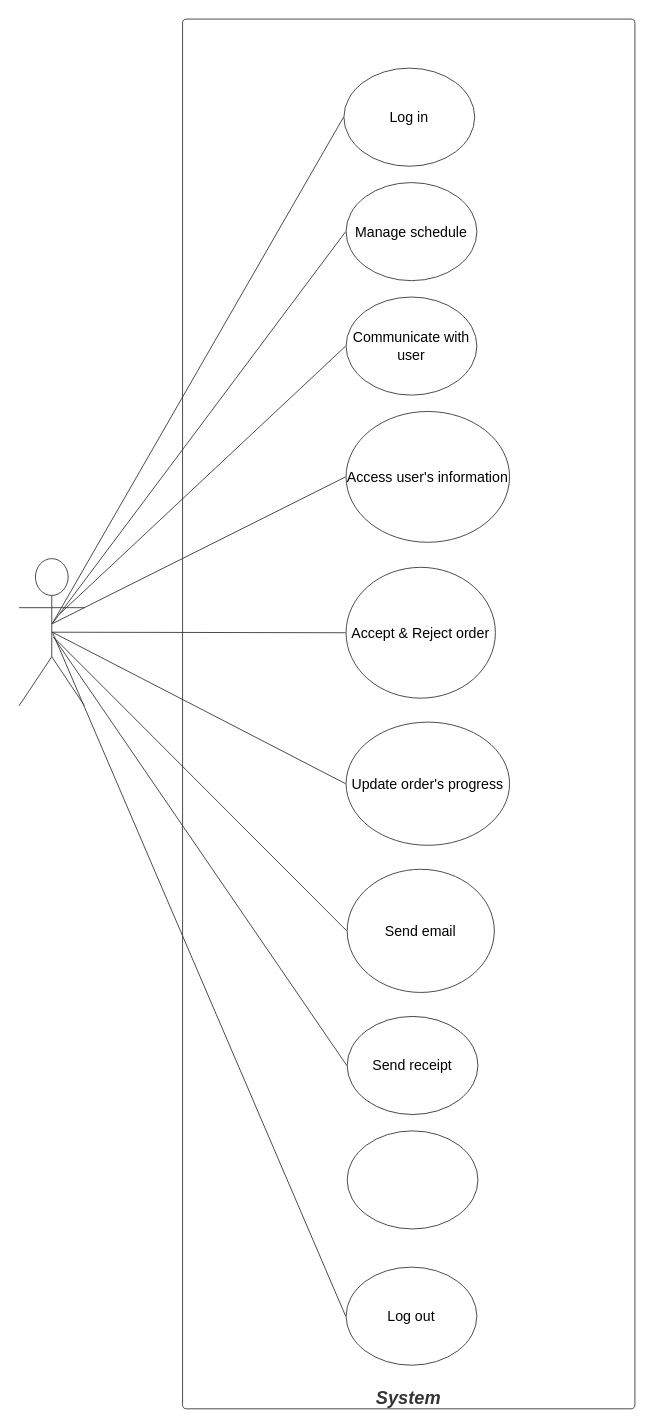
Some shapes in this 654 by 1428 pixel diagram are drawn without their labels. The box of each missing label's shape, as (x1, y1, x2, y2) in pixels:
Close case: (346, 1130, 478, 1229)
Workers: (18, 558, 84, 706)
